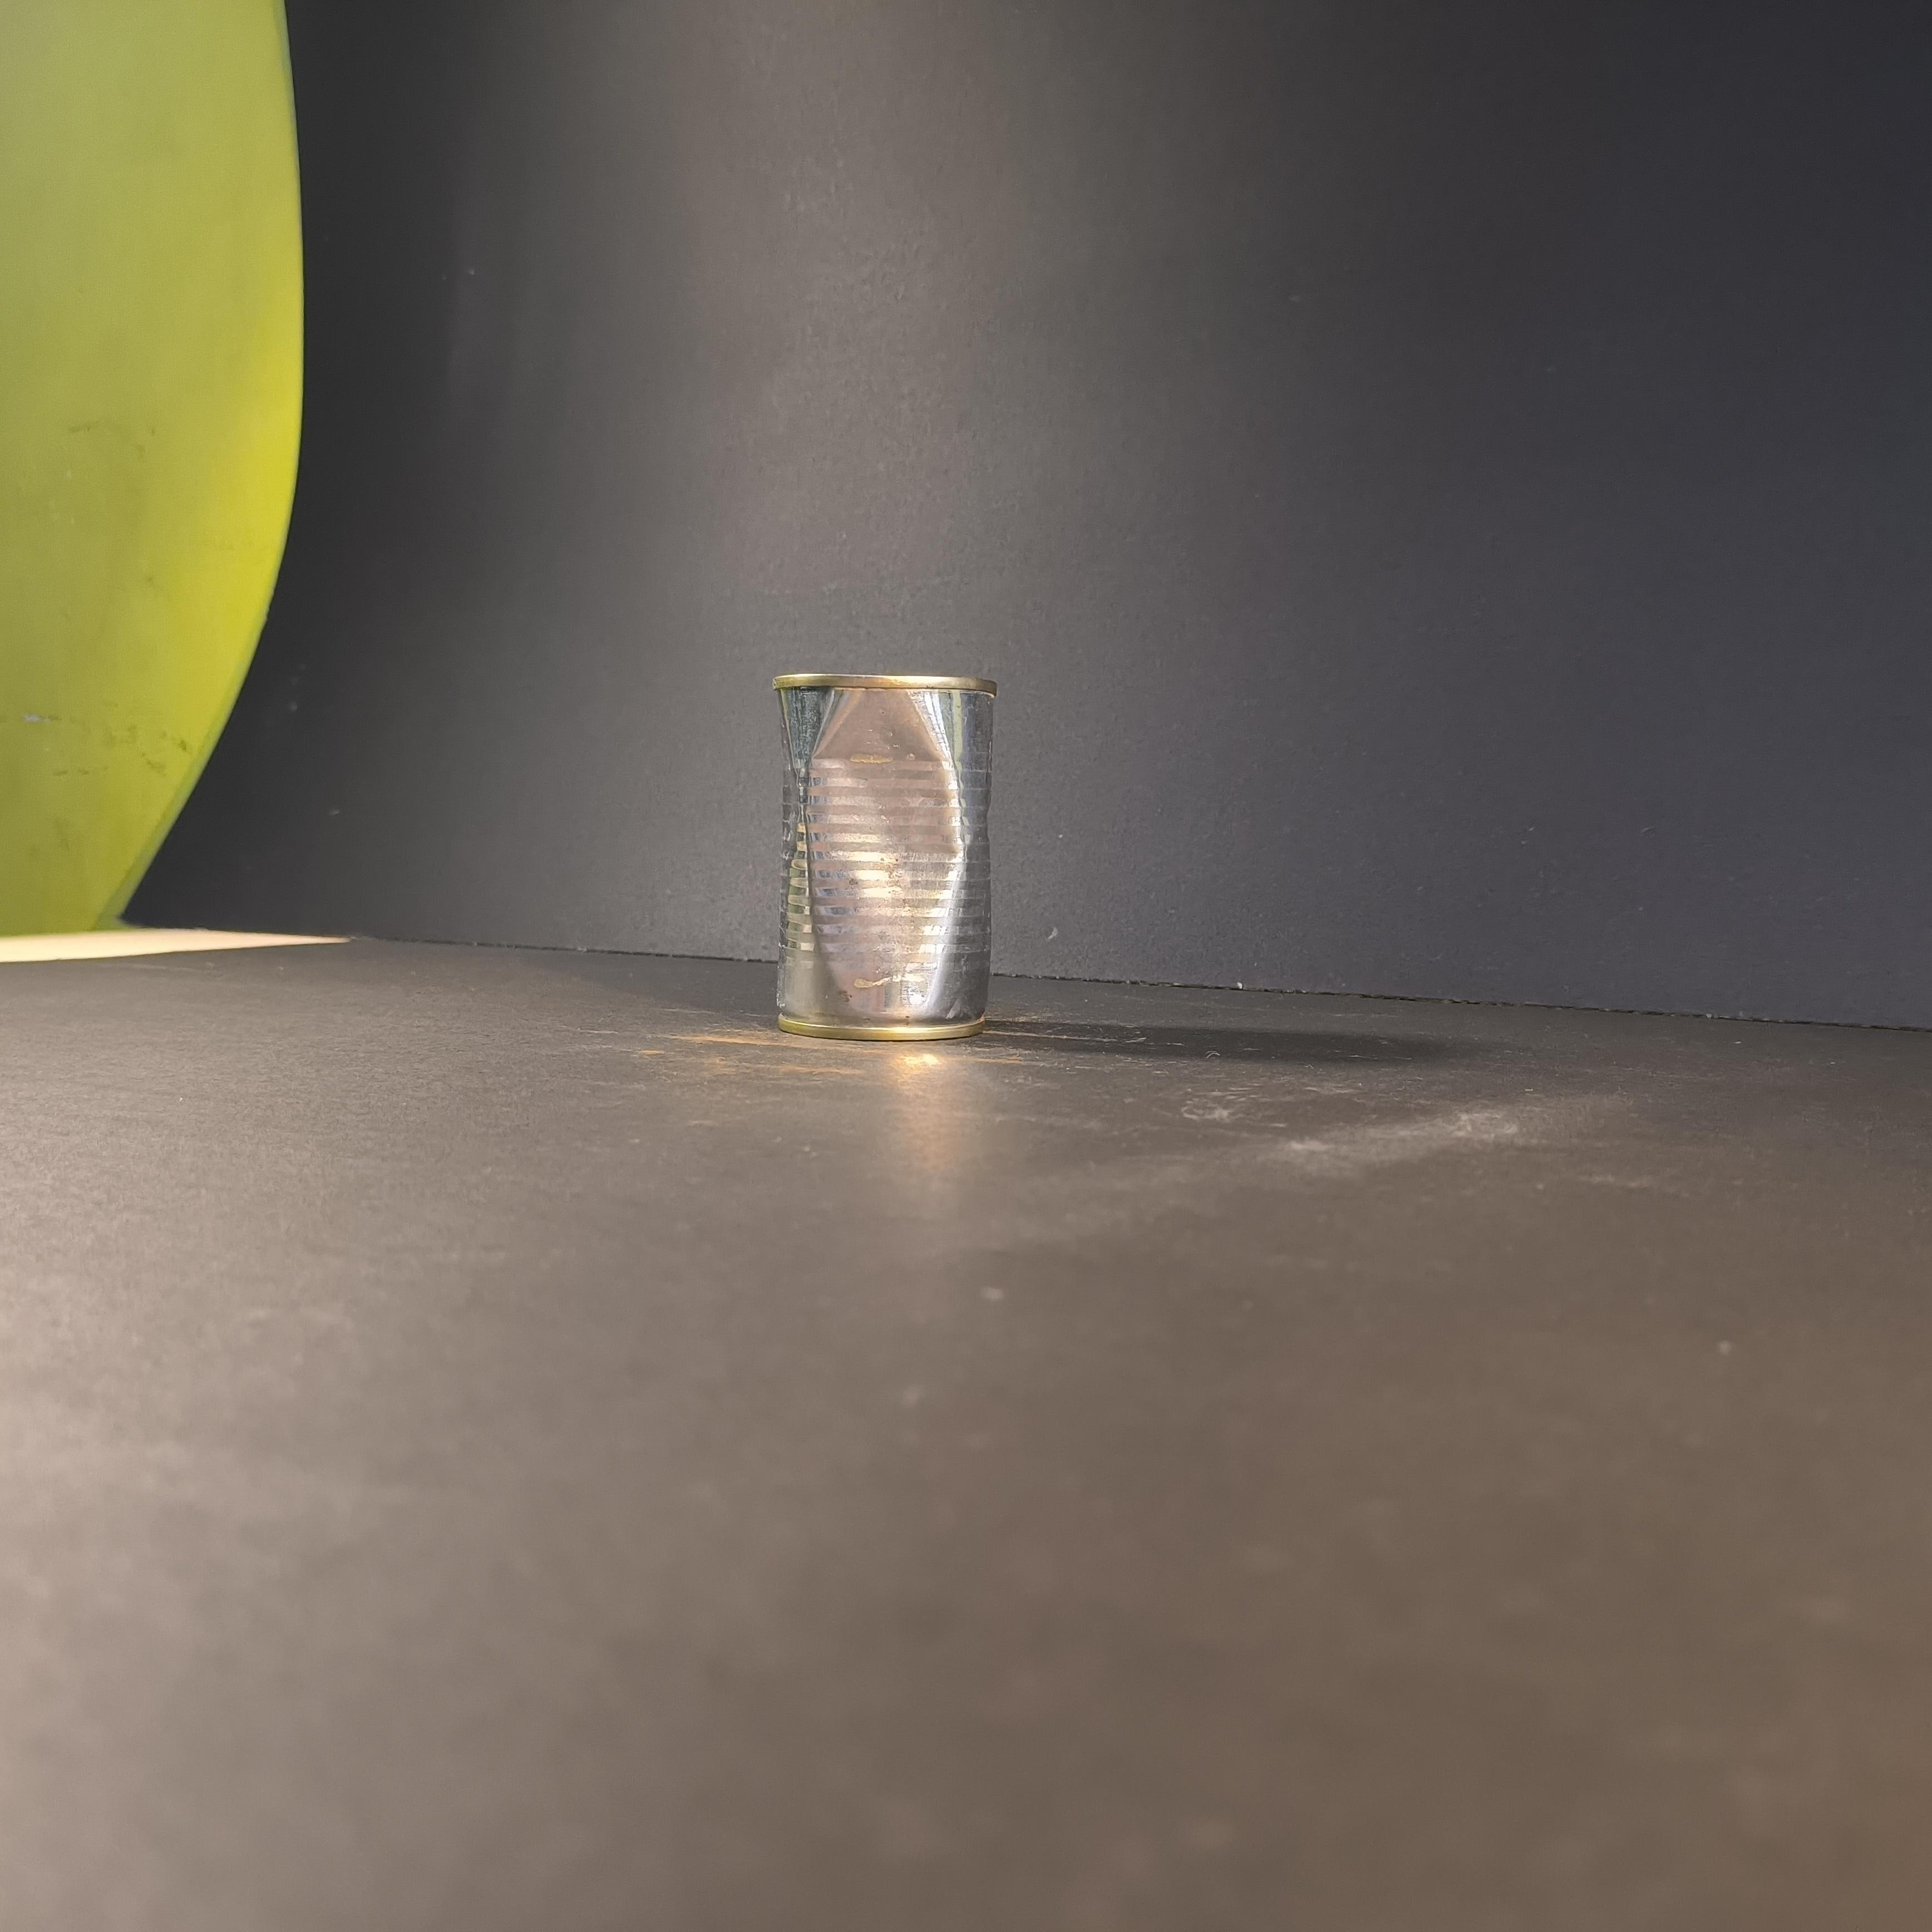Dented: (754, 646, 1021, 1077)
